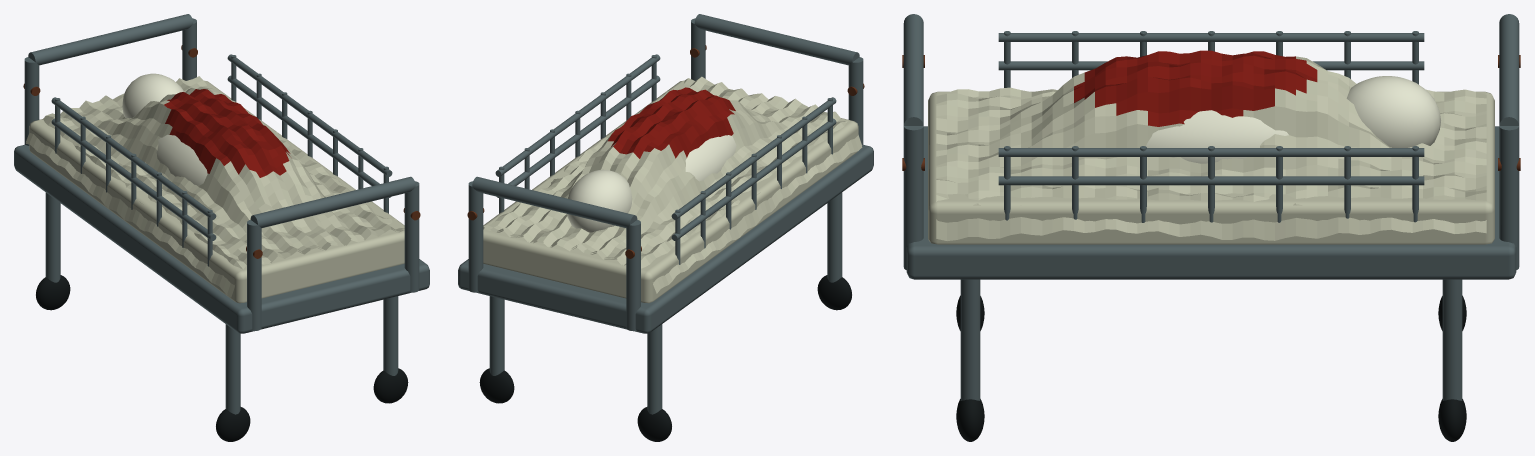
File: ChildBody.obj
3 views of the same model, side by side, from view 1: azimuth 30°, elevation 25°; view 2: azimuth 150°, elevation 25°; view 3: azimuth 270°, elevation 25° (orthographic). The views are drawn at different scales.
Parts seen in each view (by area): view 1: ChildBody; view 2: ChildBody; view 3: ChildBody.
Part boxes in pixels (<box>): ChildBody: <box>14,14,429,441</box>; ChildBody: <box>458,14,873,441</box>; ChildBody: <box>902,14,1520,441</box>.
Bounding box in the file's own units: 1.05 × 1.28 × 2.18.
